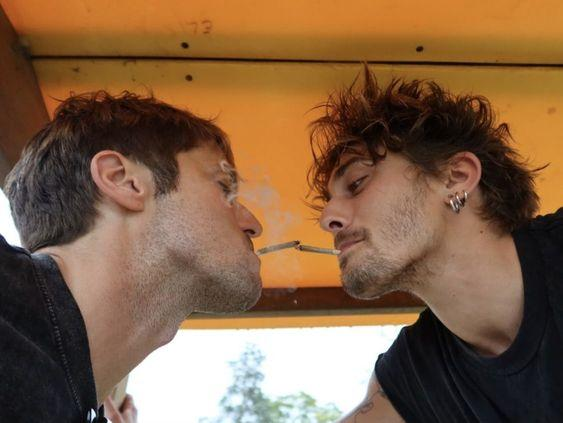cigarette: (254, 241, 300, 256), (295, 245, 342, 255)
